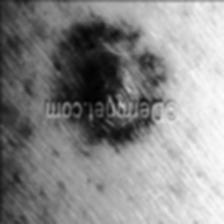Potentially Malignant Skin Tumors: (42, 18, 180, 97)
